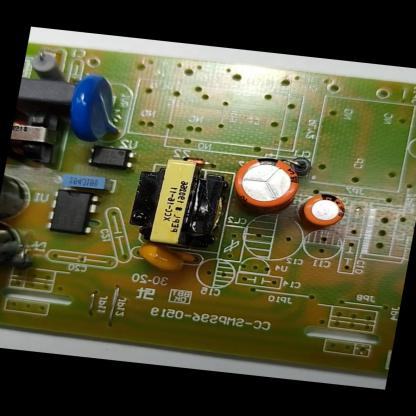Cap1: (229, 153, 308, 214)
Cap2: (298, 190, 350, 232)
Cap3: (0, 162, 36, 226)
Cap4: (0, 220, 30, 284)
MOSFET: (44, 186, 99, 236)
Mov: (56, 69, 134, 148)
Resistor: (23, 48, 72, 84)
Transformer: (124, 153, 236, 252), (6, 104, 72, 170)
